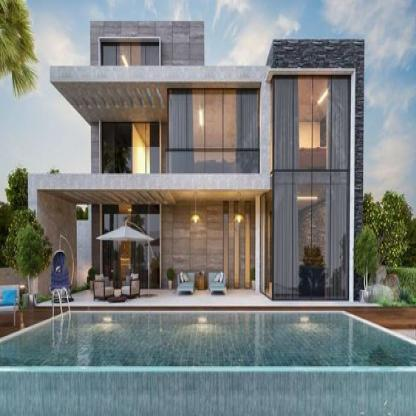Balcony: (93, 147, 161, 175)
Building Outline: (28, 21, 365, 304)
Facade: (27, 20, 366, 305)
Floor Slab: (90, 67, 206, 83), (92, 175, 268, 185), (274, 172, 350, 182)
Glass Wall: (274, 172, 348, 299), (169, 89, 260, 172), (274, 78, 350, 170), (103, 206, 160, 289), (102, 122, 160, 177), (266, 189, 272, 299), (261, 193, 265, 294), (270, 79, 273, 172)
Window: (101, 44, 158, 90), (223, 201, 228, 289), (246, 201, 251, 289), (235, 201, 240, 289)
